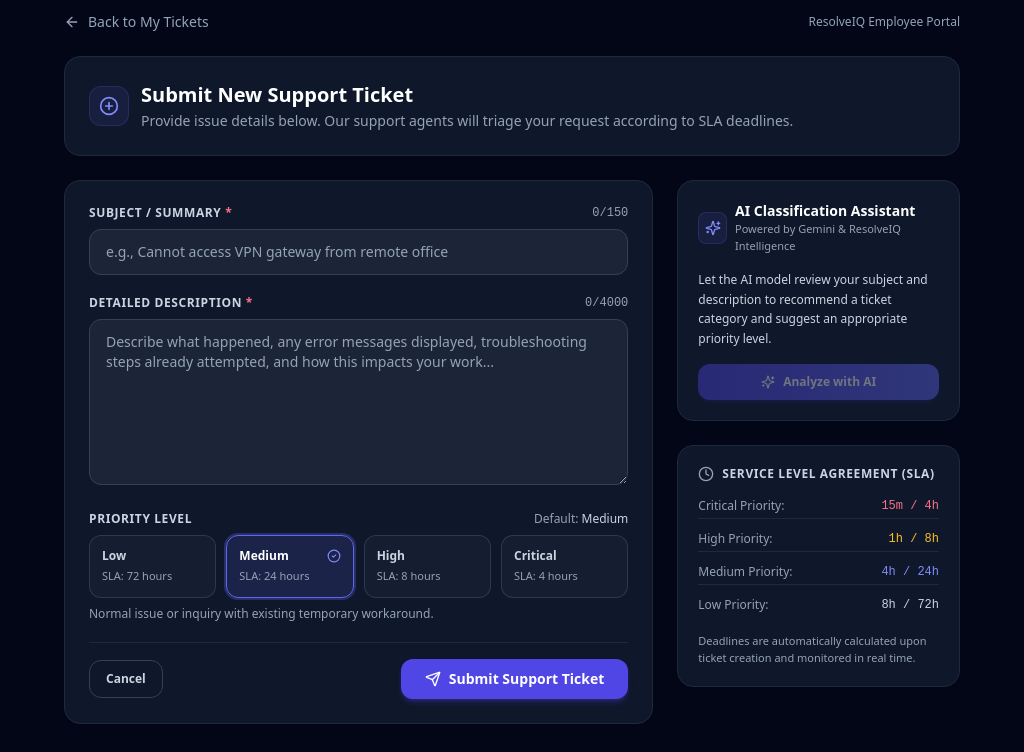
Test: Employee Portal — Dashboard, Create Ticket & My Tickets › CreateTicketPage Component › preserves user input draft on submission failure
Type "Invalid Title??" into the field labelled "Subject / Summary *" at [359, 252], box [89,229,628,275]
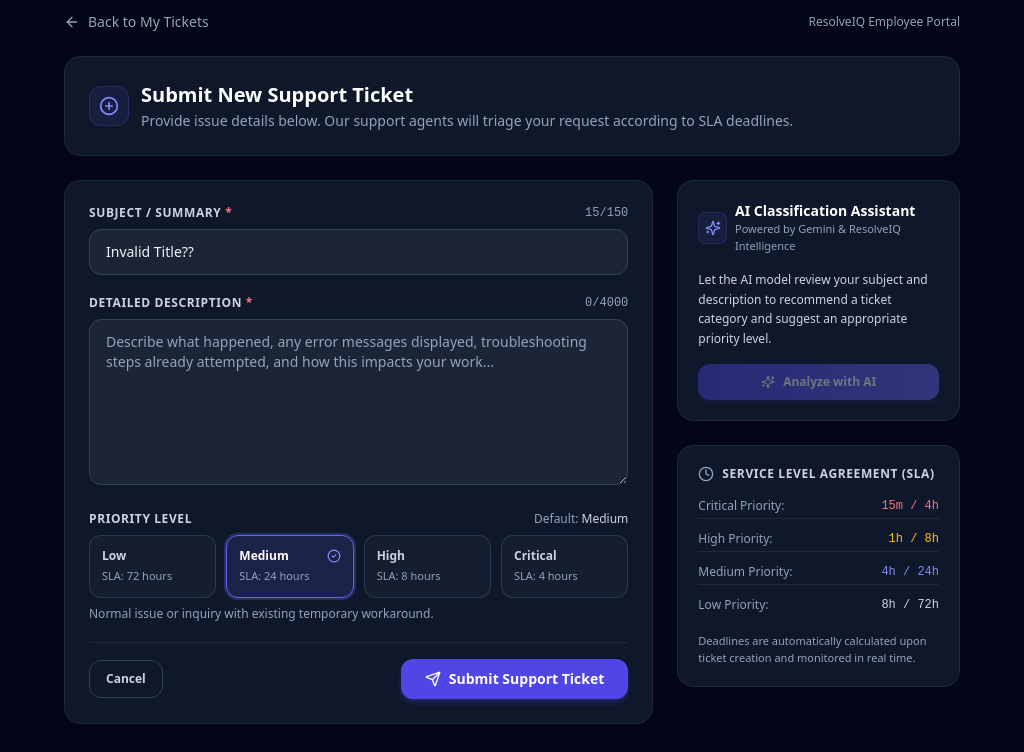
Replace the text in the text box labelled "Detailed Description *" with "Preserved description draft" at [359, 402], box [89,319,628,485]
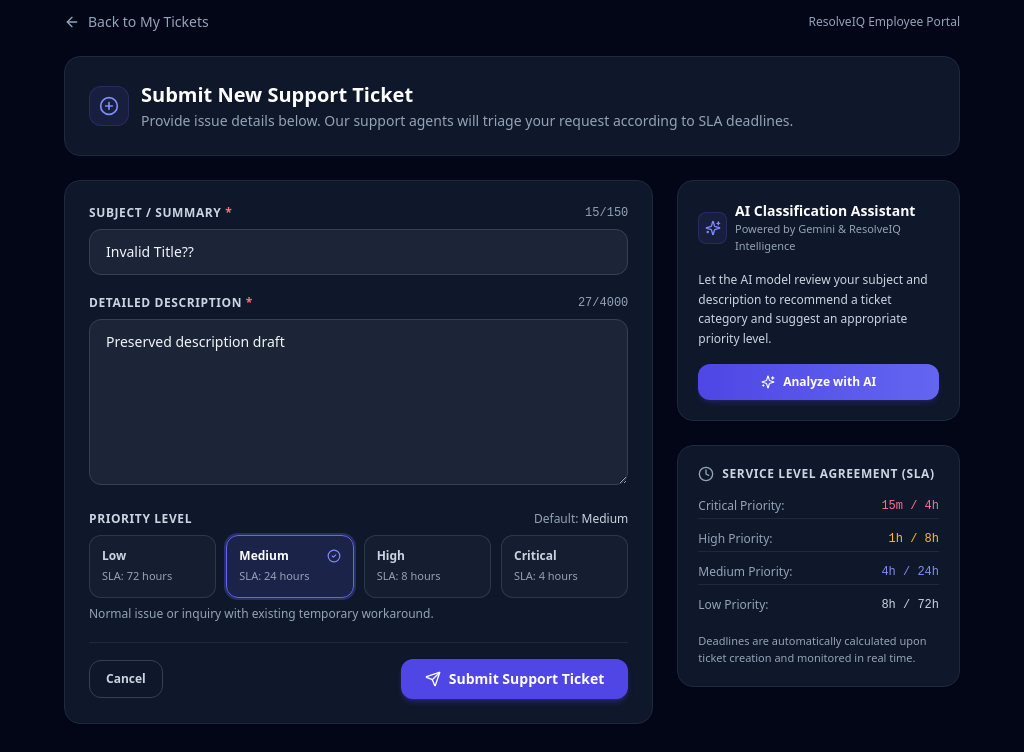
Click the button "Submit Support Ticket" at [515, 678], box [401,658,628,698]
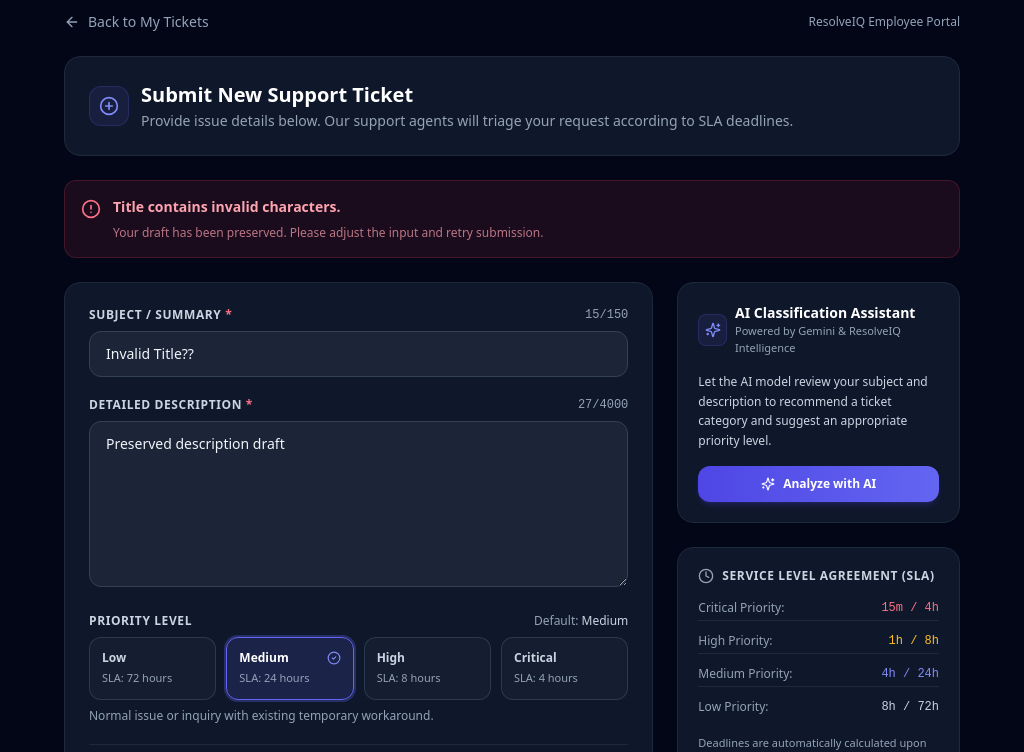
Check: the text "Title contains invalid characters." is shown, box [113,197,340,216]
